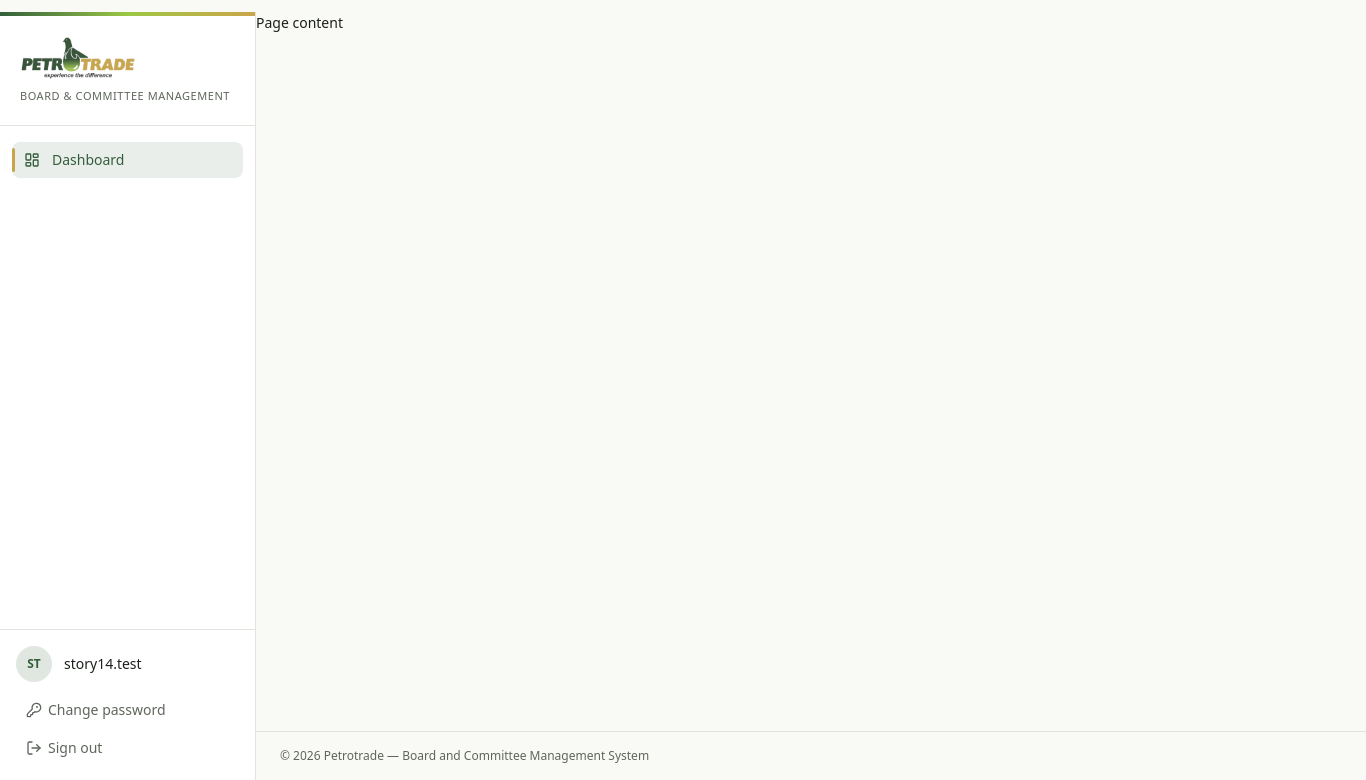
AppShell › disables both buttons while a sign-out redirect is in flight
The image size is (1366, 780).
What coordinates should you click on to do the following:
click the button "Sign out"
I would click on:
 (128, 748)
Its box is x1=16 y1=732 x2=239 y2=764.
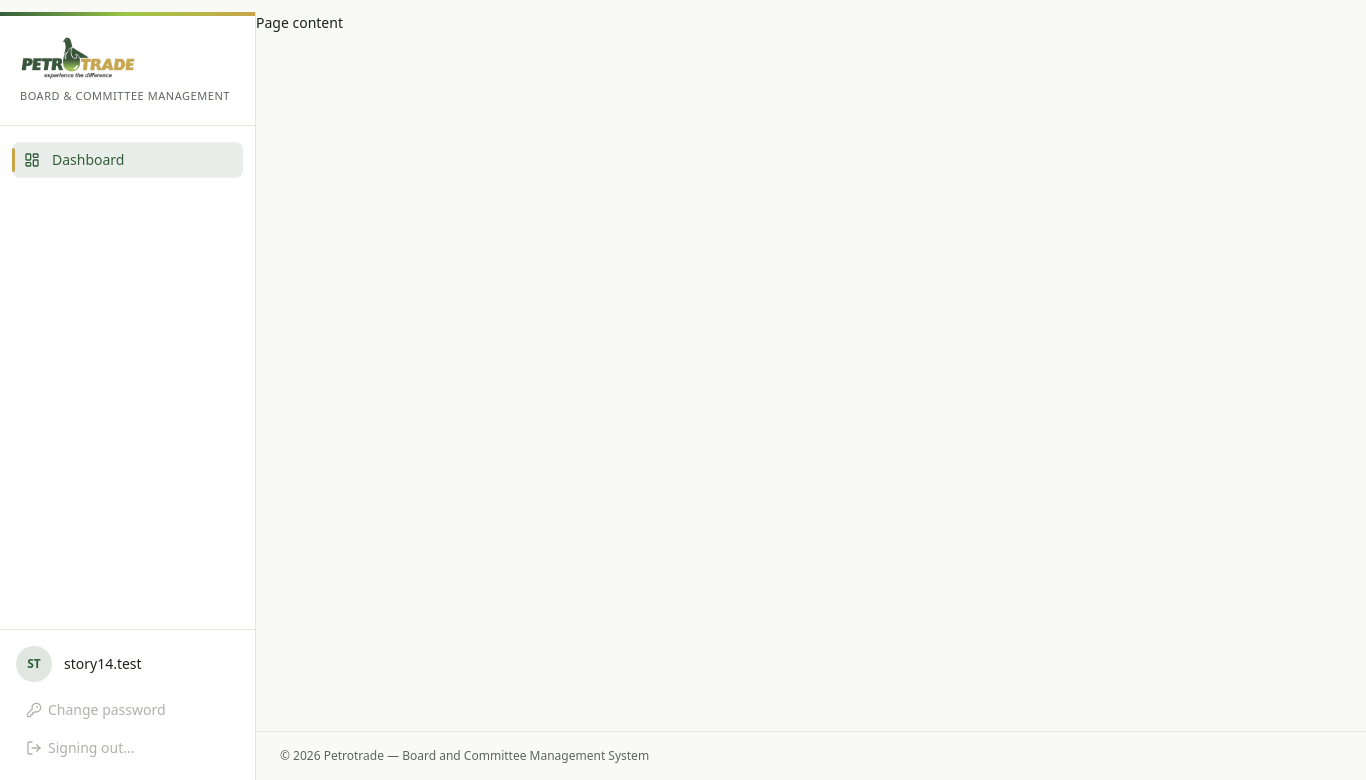
Expected: the button named "Sign out" is disabled, x1=16 y1=732 x2=239 y2=764
Expected: the button "Change password" is disabled, x1=16 y1=694 x2=239 y2=726
